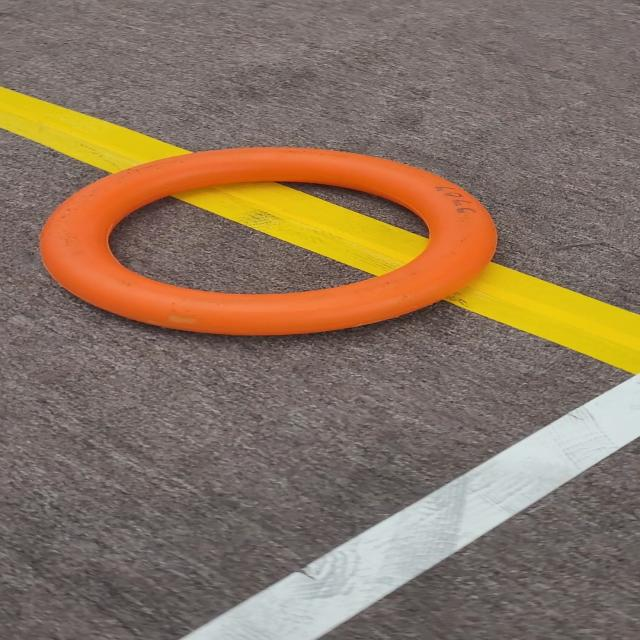note: (38, 140, 522, 351)
